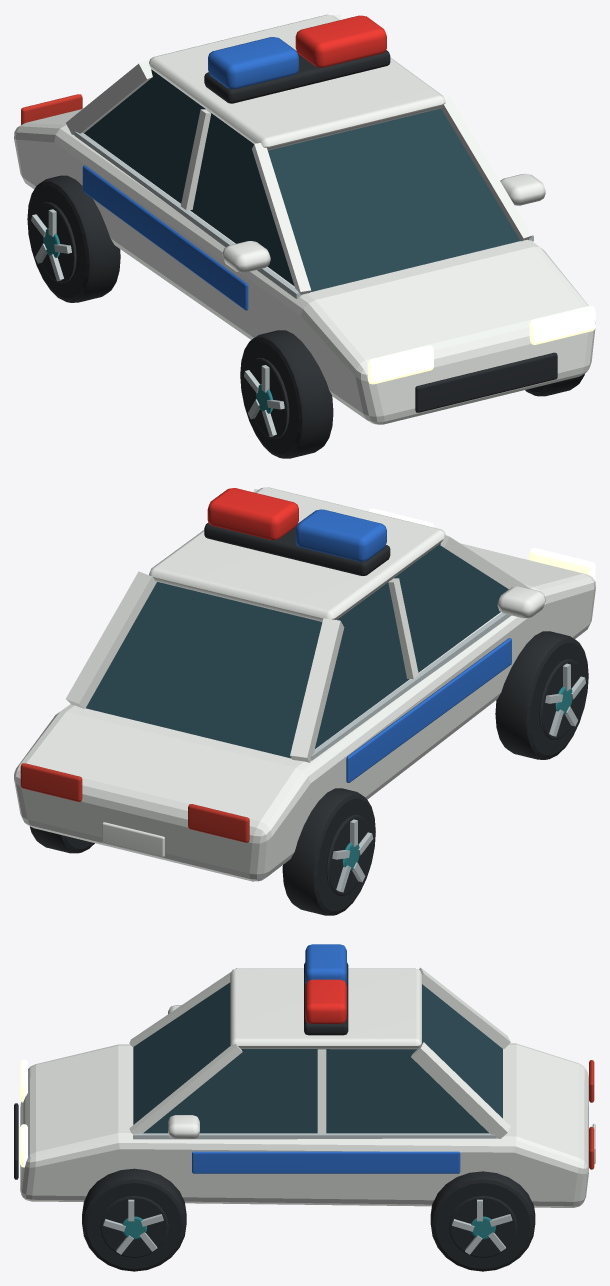
The model's file is policecar.glb.
3 renders of one model, top to bottom at view 1: azimuth 30°, elevation 25°; view 2: azimuth 150°, elevation 25°; view 3: azimuth 270°, elevation 25°, orthographic. The views are drawn at different scales.
Visible parts, largest first — view 1: PoliceCar; view 2: PoliceCar; view 3: PoliceCar.
Part boxes in pixels (left/top/right/bottom): PoliceCar: left=14, top=14, right=595, bottom=458; PoliceCar: left=14, top=487, right=595, bottom=915; PoliceCar: left=14, top=944, right=595, bottom=1271.
Size of the model in its own units: 2.19 by 1.99 by 4.34.
